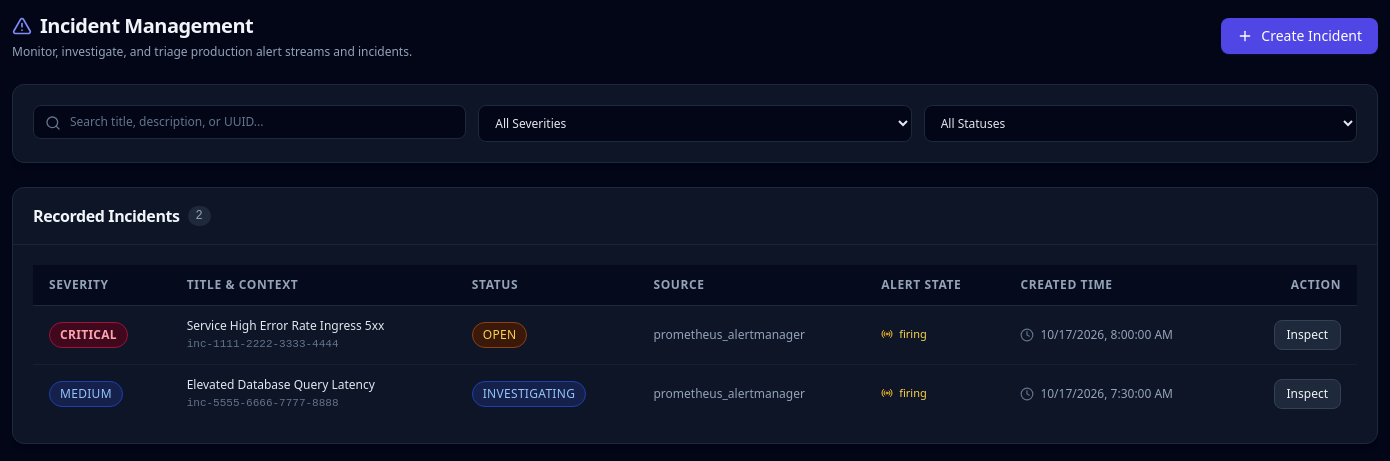
Test: IncidentsPage › filters incidents by search term
Expected: the link "Service High Error Rate Ingress 5xx" is shown, [187,317,384,334]
Type "Database" into the field with placeholder "Search title, description, or UUID...".
click(250, 122); type("Database")  # box [33,105,466,139]
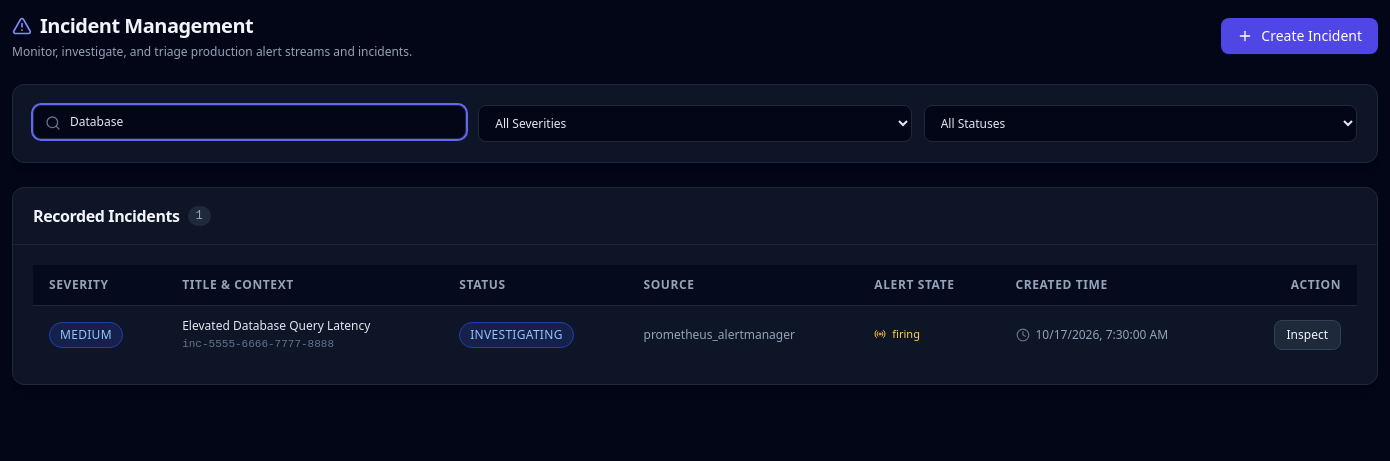
Expected: the link "Elevated Database Query Latency" is shown, [182,317,370,334]
Now the link "Service High Error Rate Ingress 5xx" is gone
